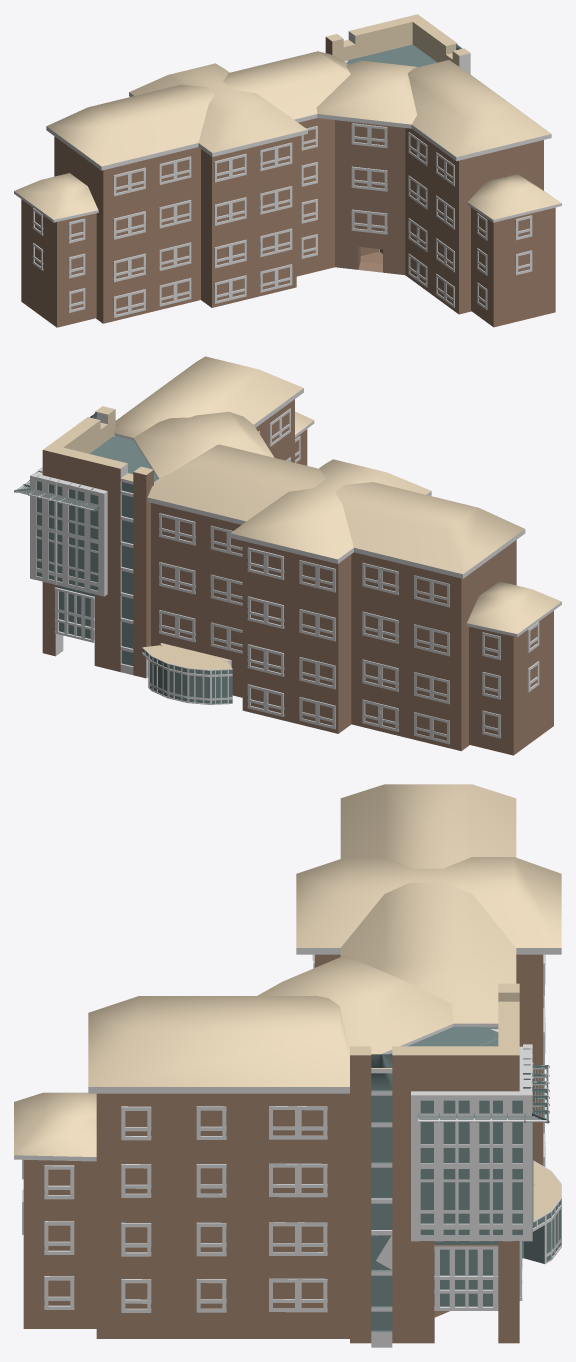
The model's file is france.fbx.
The picture shows the model from 3 angles, top to bottom: view 1: azimuth 30°, elevation 25°; view 2: azimuth 150°, elevation 25°; view 3: azimuth 270°, elevation 25°; orthographic projection. The views are drawn at different scales.
Parts seen in each view (by area): view 1: polySurface489; view 2: polySurface489; view 3: polySurface489.
Boxes of the visible parts, bbox=[...] form: polySurface489: bbox=[14, 14, 561, 327]; polySurface489: bbox=[14, 356, 561, 755]; polySurface489: bbox=[14, 784, 561, 1347].
Bounding box in the file's own units: 27.96 × 11.57 × 19.4.
